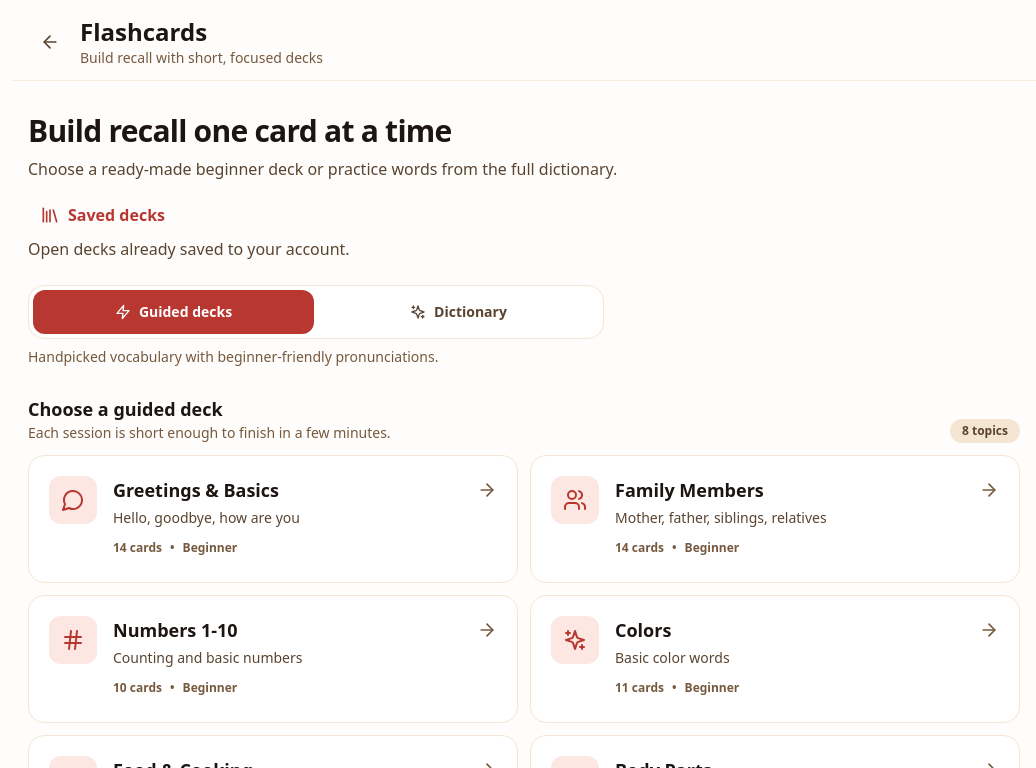
Test: practice entry pages › lets learners switch flashcard sources without losing the live corpus count
Expected: the heading "Build recall one card at a time" is shown, [28,110,452,151]
Click the button "Dictionary". click: (458,312)
box: [318,290,599,334]
(page scrolled)
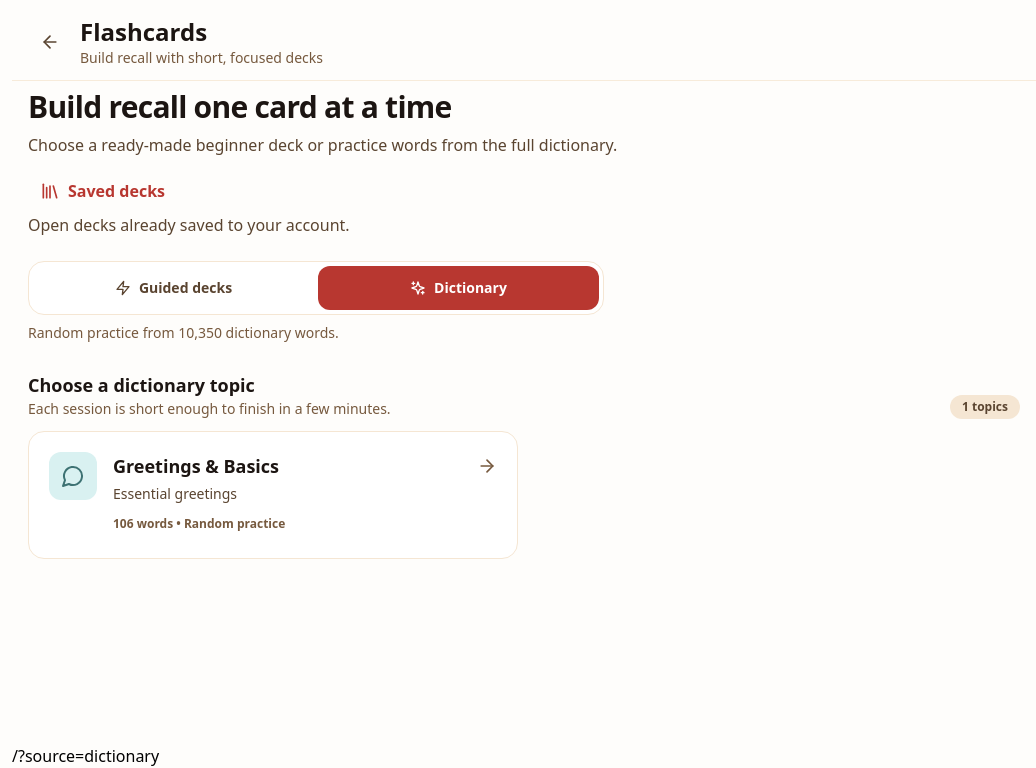
Expected: the text "Random practice from 10,350 dictionary words." is shown, [28,323,339,342]
Expected: the text with test id "location" reads "/?source=dictionary", [12,745,159,767]
